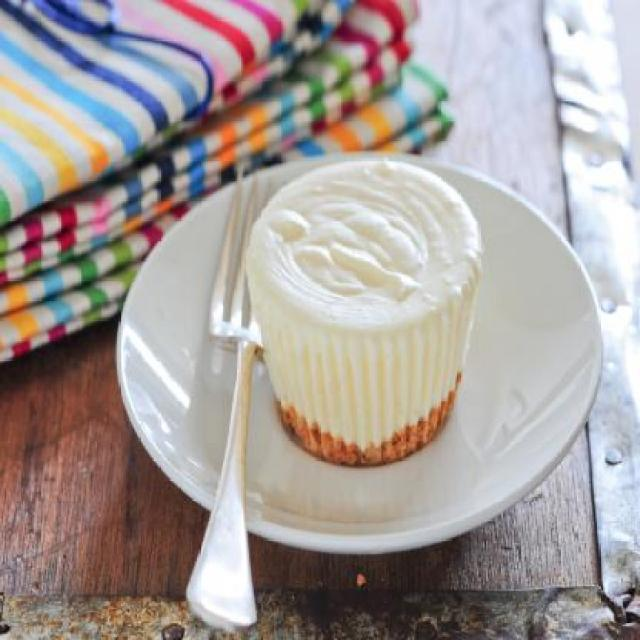Muffin: (246, 153, 484, 470)
